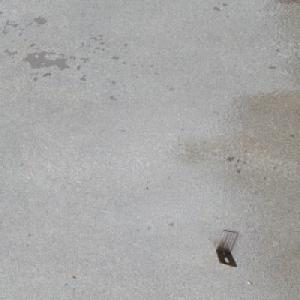MetalPart: (213, 230, 238, 268)
